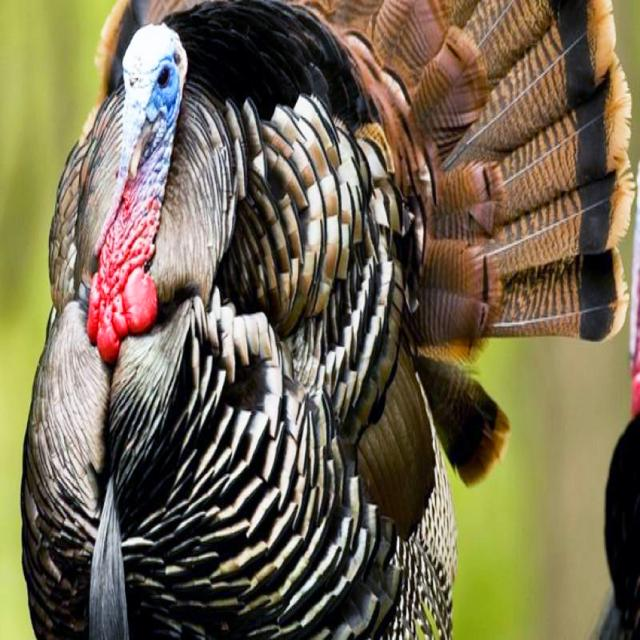turkey: (21, 0, 635, 640)
